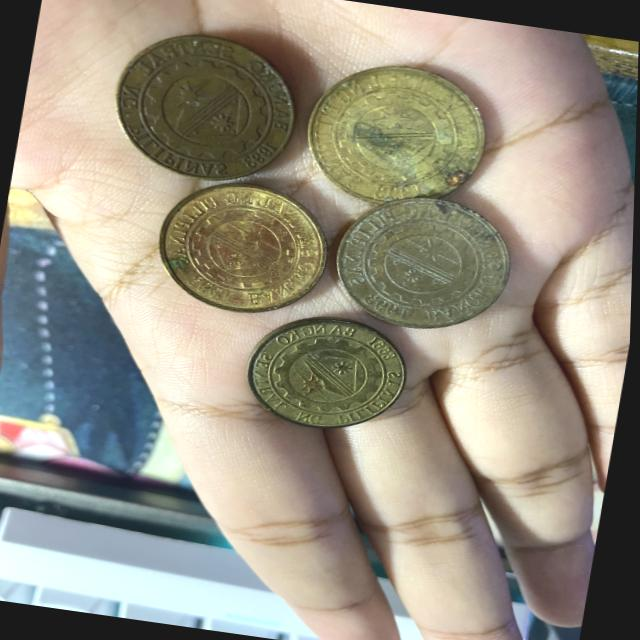25Cent_Old_Back: (98, 30, 305, 190), (302, 53, 496, 215), (149, 178, 330, 320), (339, 192, 517, 336), (240, 315, 416, 442)
